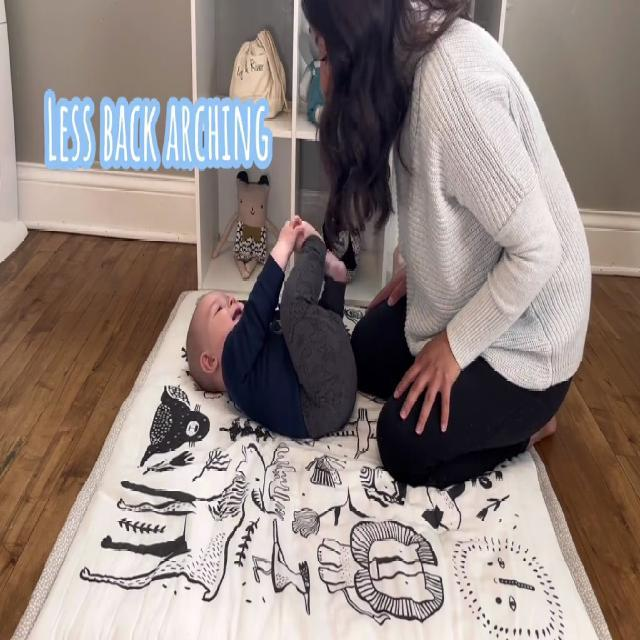baby: (188, 217, 362, 438)
